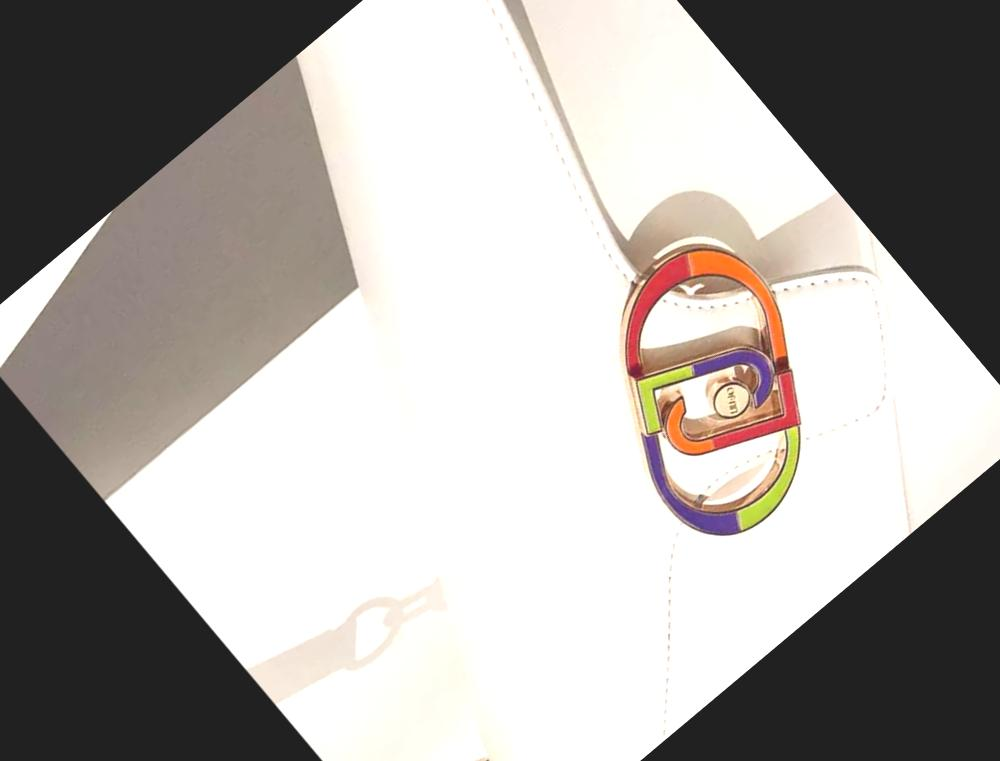LIU-JO: (609, 293, 822, 504)
